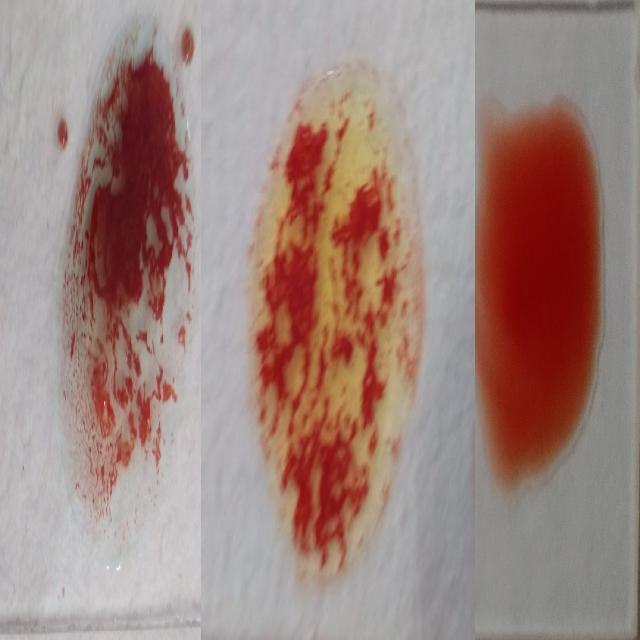A: (63, 16, 194, 534)
B: (252, 60, 416, 582)
